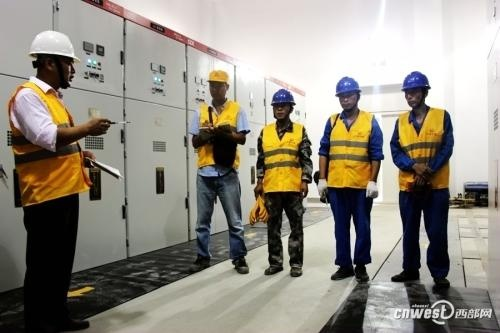blue: (401, 70, 431, 110), (333, 74, 361, 114), (267, 87, 297, 123)
white: (29, 27, 76, 92)
yellow: (206, 70, 231, 102)
